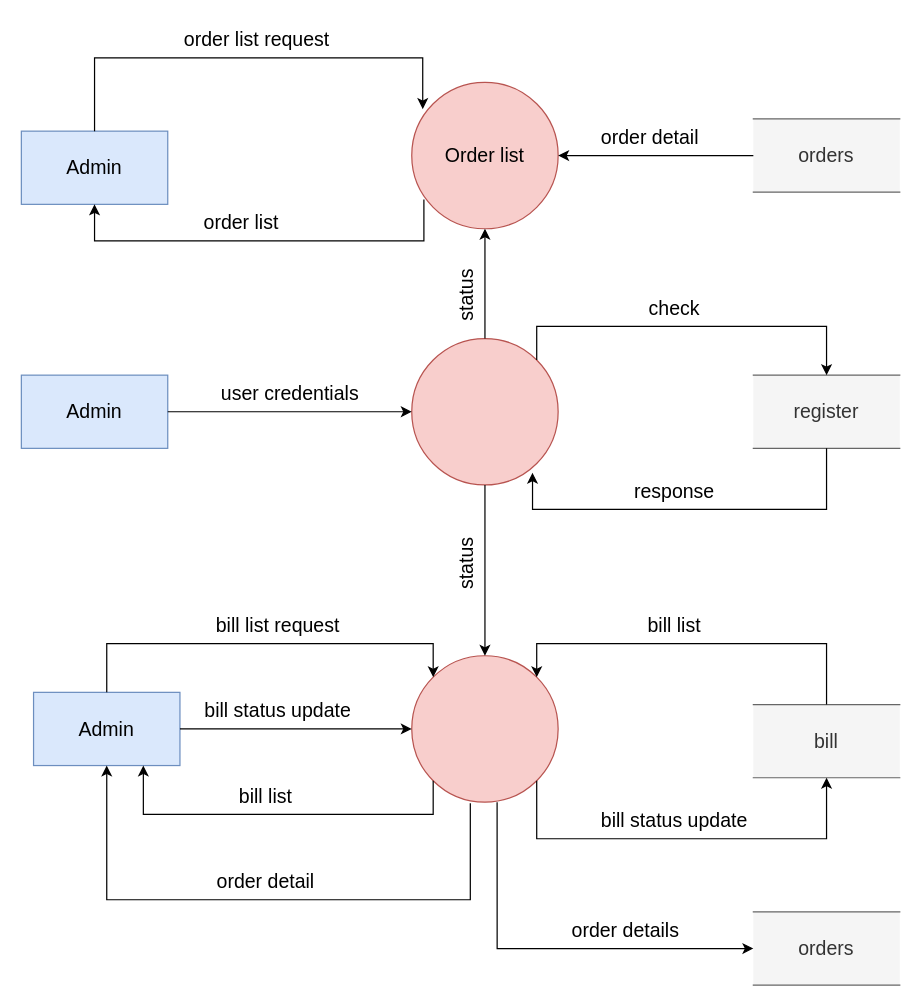
Image size: 921x1007. Some labels were removed from this diagram. The shapes that lost their labels are listed below. From the top down, each one's centre as x and y in pixels, then its label:
[484,411]: Authentication
[484,728]: Mange bills
